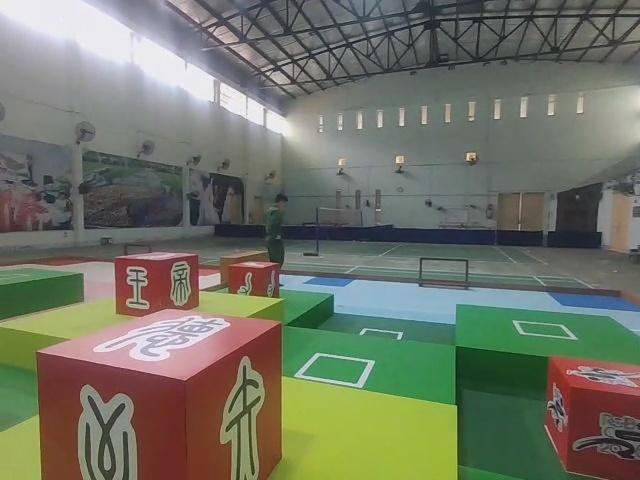R1: (540, 351, 640, 480)
R2 Fake: (34, 302, 285, 480), (111, 247, 201, 320)
R2 Real: (224, 258, 282, 301)
